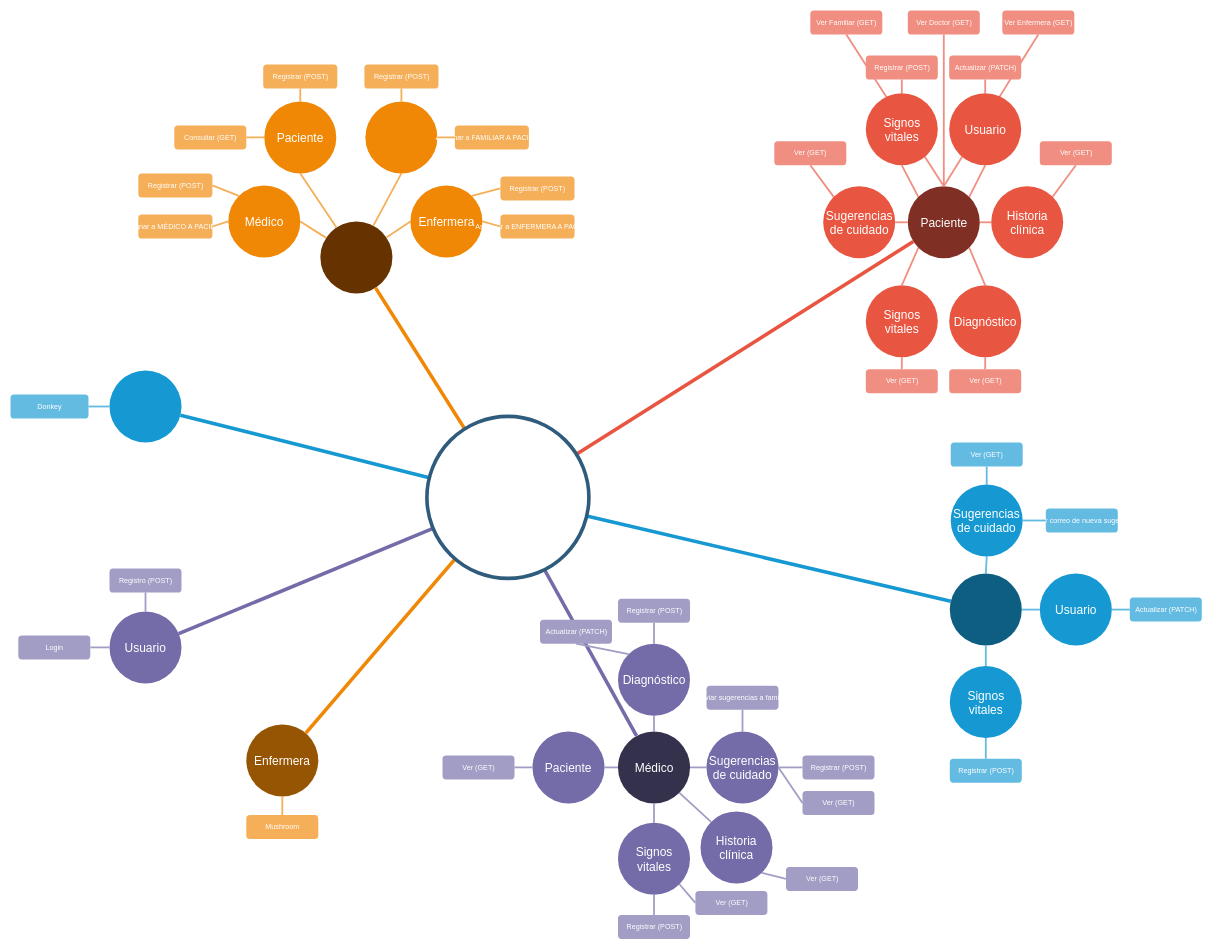
The diagram is 1212 pixels wide and 949 high, and some of its shapes have lost their labels. The shapes that lost their labels are listed below. From the top down, each one's box as (x1, y1, x2, y2) in pixels, then its label:
(365, 101, 437, 173): Familiar
(320, 221, 392, 293): Auxiliar - asistente
(109, 370, 181, 442): Administrador
(425, 414, 590, 580): Vistas - Front
(950, 573, 1022, 645): Familiar designado
